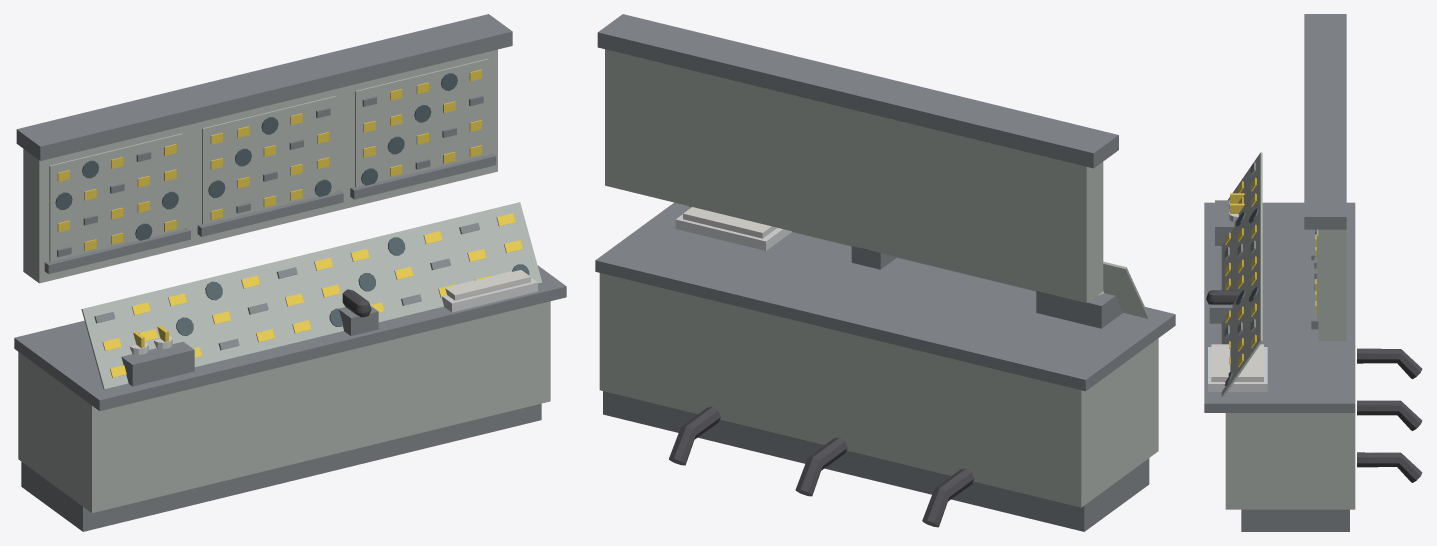
File: cold-war-missile-silo-and-command-bunker-launch-consol-da733e77__15657.glb
3 renders of one model, left to right at view 1: azimuth 30°, elevation 25°; view 2: azimuth 150°, elevation 25°; view 3: azimuth 270°, elevation 25°, orthographic. The views are drawn at different scales.
Visible parts, largest first — view 1: launch-console-bank; view 2: launch-console-bank; view 3: launch-console-bank.
Boxes of the visible parts, x1=… form: launch-console-bank: x1=14, y1=14, x2=566, y2=531; launch-console-bank: x1=595, y1=14, x2=1175, y2=531; launch-console-bank: x1=1204, y1=14, x2=1422, y2=531.
Size of the model in its own units: 2.74 by 2 by 1.24.
